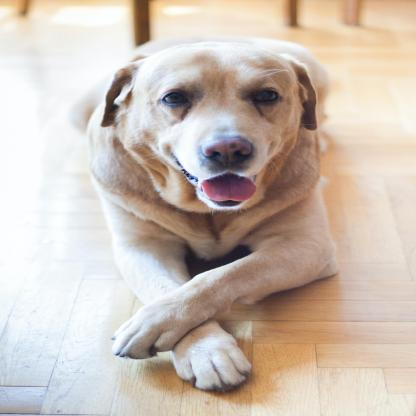dog: (64, 36, 330, 389)
